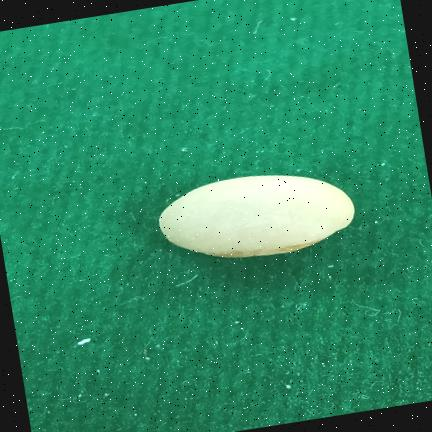parchment: (159, 175, 354, 257)
